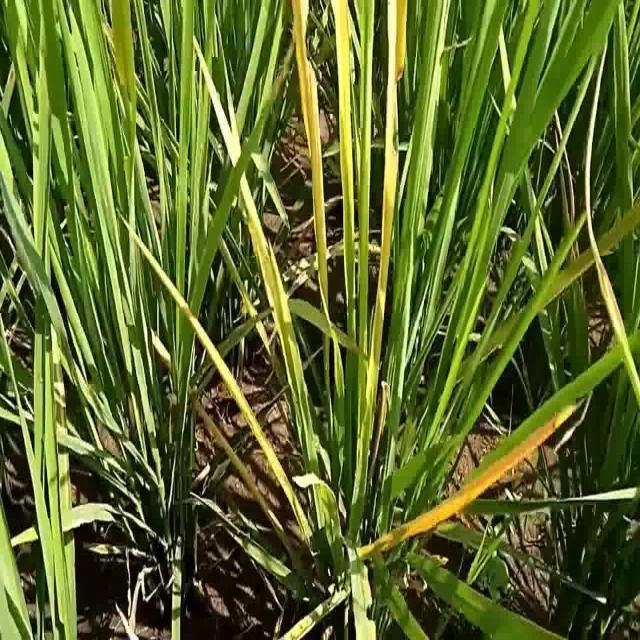Rice Tungro: (115, 208, 306, 537), (362, 402, 578, 567), (189, 33, 293, 347), (370, 3, 410, 377), (291, 3, 333, 310), (331, 3, 361, 269)
